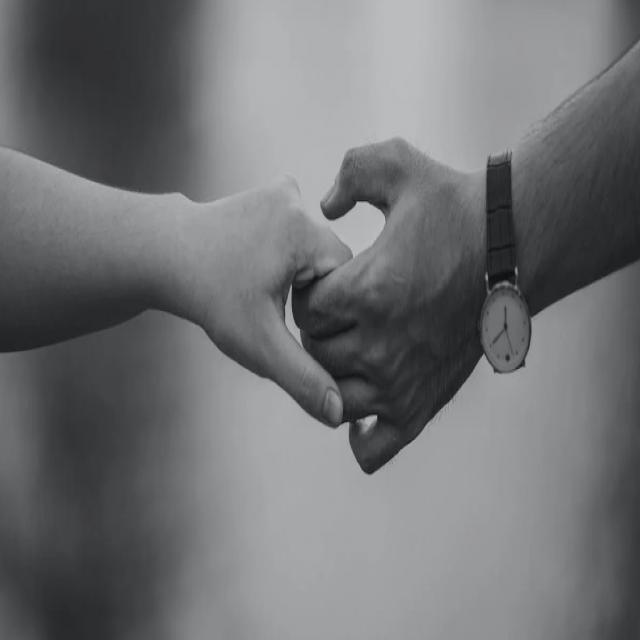Watch: (479, 150, 532, 378)
